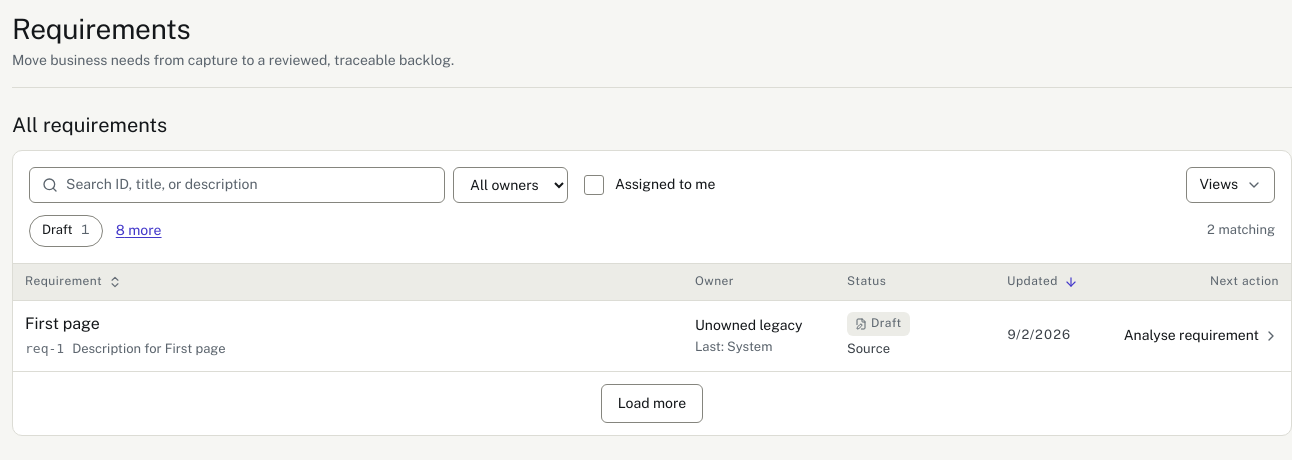
Test case: DashboardPage › loads the next server page without replacing current rows
Expected: the link "First page" is shown, left=25, top=314, right=100, bottom=333
Click the button "Load more".
click(652, 403)  # box left=601, top=384, right=703, bottom=423
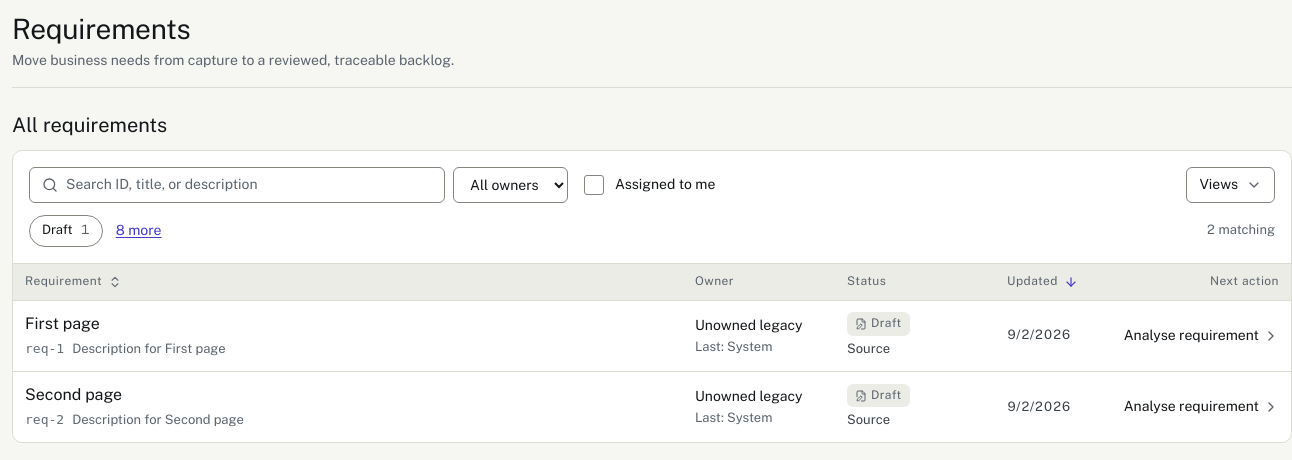
Expected: the link "First page" is shown, left=25, top=314, right=100, bottom=333
Now the link "Second page" is shown, box left=25, top=385, right=122, bottom=404
